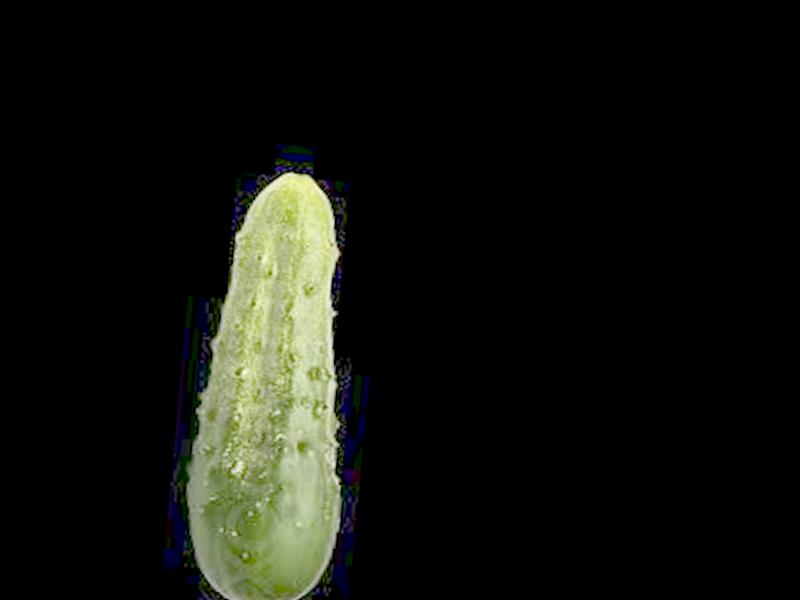Cucumber: (173, 166, 370, 600)
